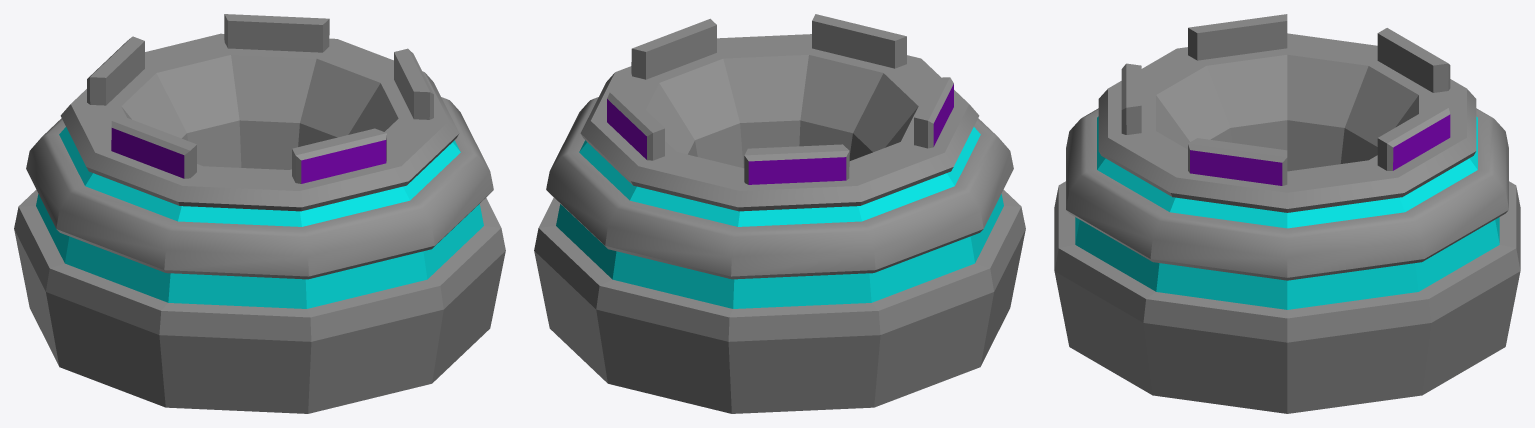
File: StylBuilding5.fbx
3 renders of one model, left to right at view 1: azimuth 30°, elevation 25°; view 2: azimuth 150°, elevation 25°; view 3: azimuth 270°, elevation 25°, orthographic.
Parts seen in each view (by area): view 1: pTorus4; view 2: pTorus4; view 3: pTorus4.
Part boxes in pixels (x1=…): pTorus4: x1=14, y1=14, x2=505, y2=413; pTorus4: x1=534, y1=14, x2=1025, y2=413; pTorus4: x1=1054, y1=14, x2=1520, y2=413.
Size of the model in its own units: 134 by 70.02 by 128.
